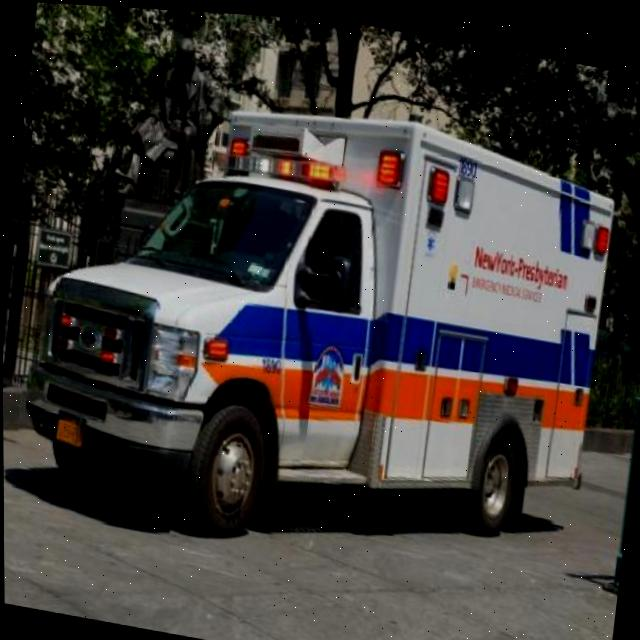emergency: (9, 47, 626, 597)
